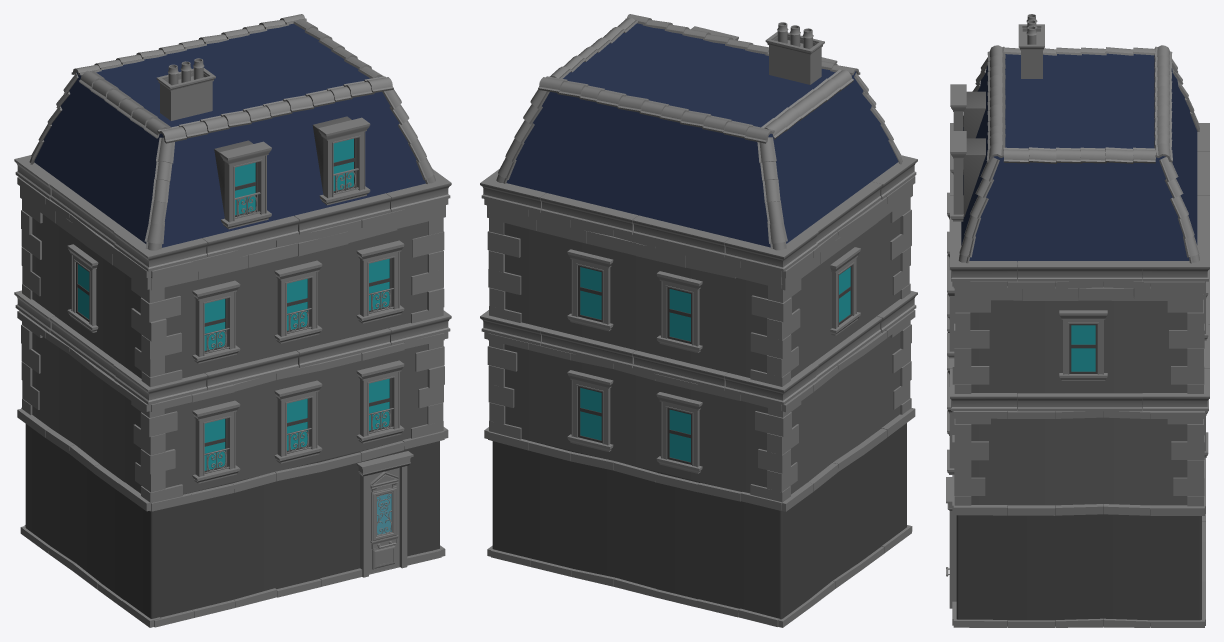
Rendered from SM_building_apartment_02.fbx.
The picture shows the model from 3 angles, left to right: view 1: azimuth 30°, elevation 25°; view 2: azimuth 150°, elevation 25°; view 3: azimuth 270°, elevation 25°; orthographic projection. The views are drawn at different scales.
Parts seen in each view (by area): view 1: Box118; view 2: Box118; view 3: Box118.
Part boxes in pixels (<box>): Box118: <box>14,14,451,627</box>; Box118: <box>480,14,917,627</box>; Box118: <box>946,14,1209,627</box>.
Size of the model in its own units: 341 by 555 by 264.
